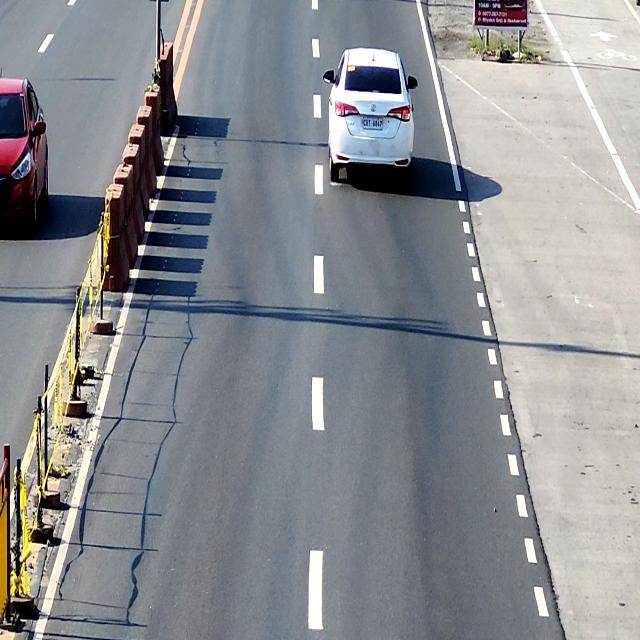Car: (324, 48, 418, 194), (0, 78, 50, 235)
License-Plate: (362, 117, 382, 130)
